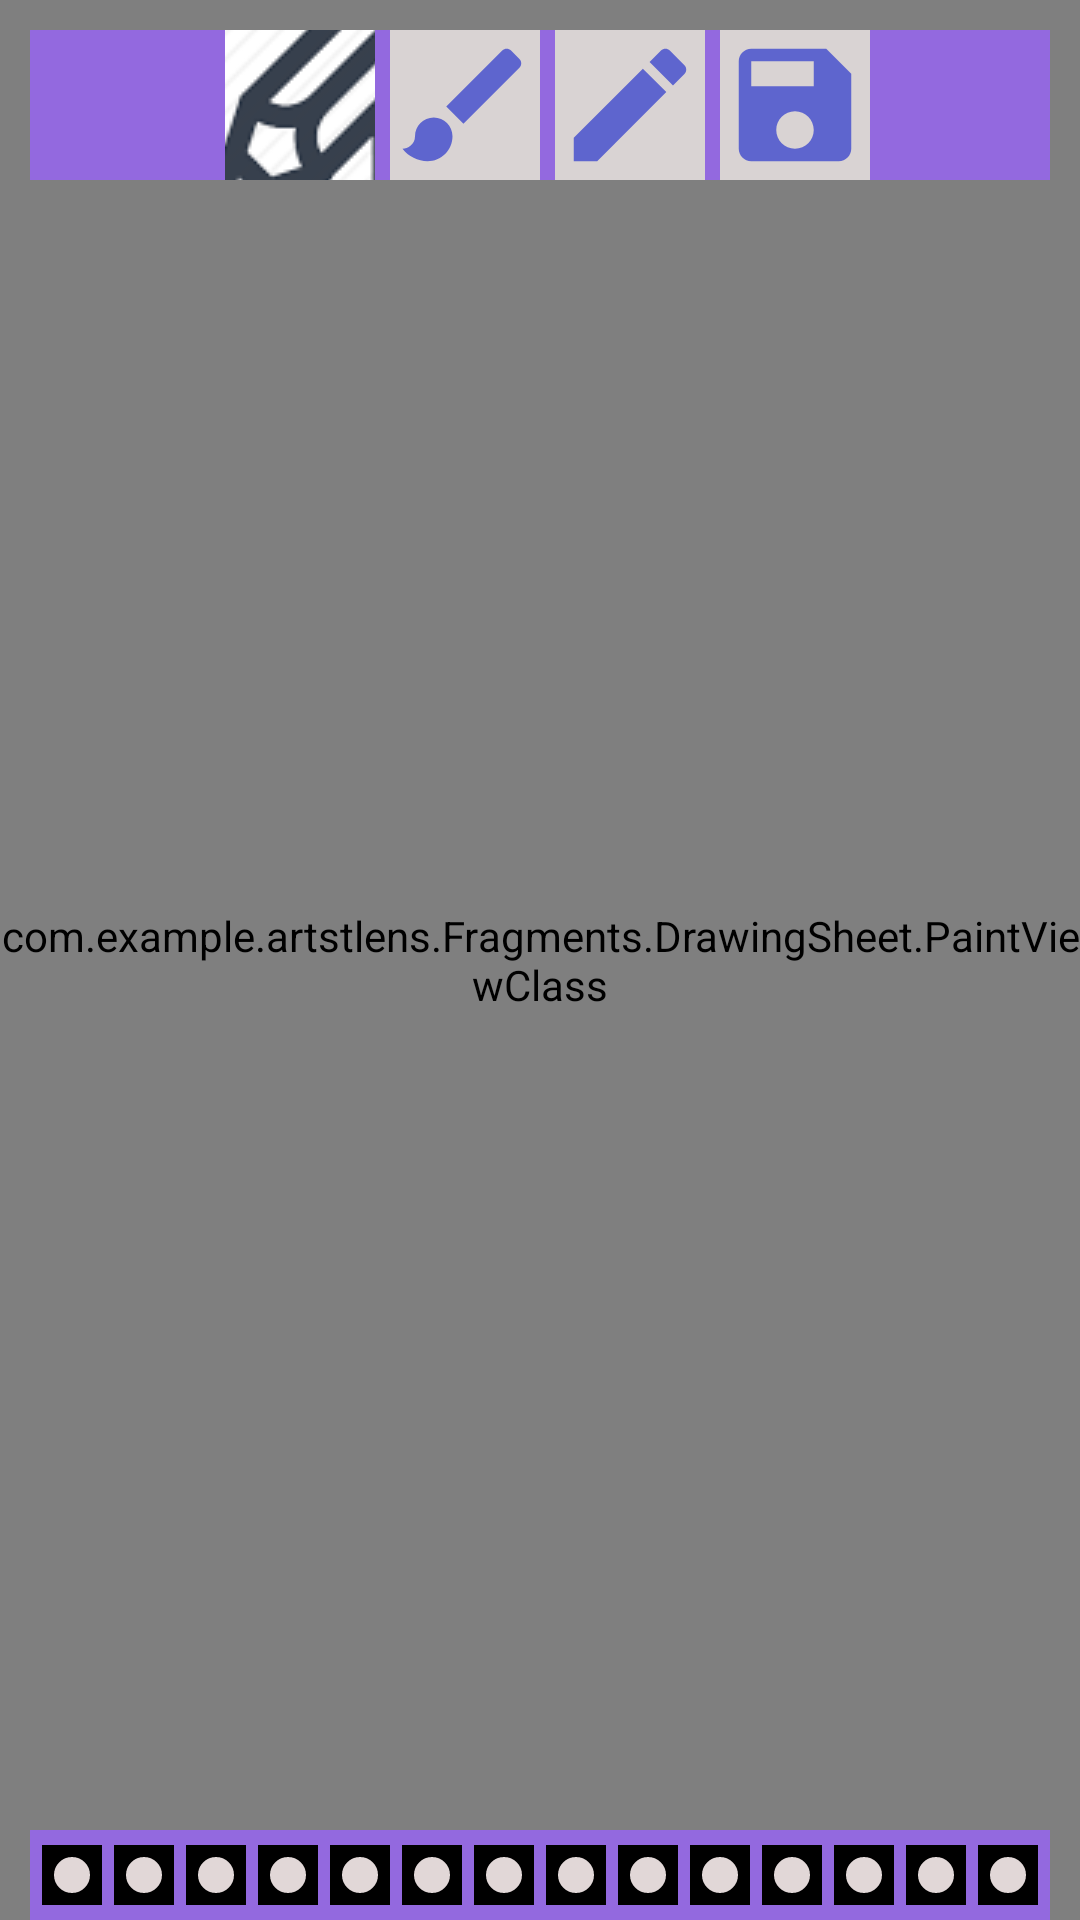

Icons on this 1080×1920 Android screen, each with the point to tap as [x,y]:
Brush: [465,105]
Save: [795,105]
